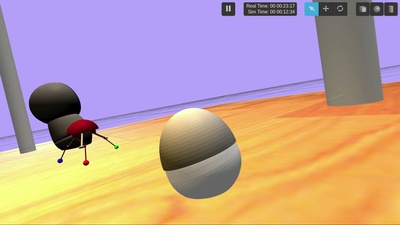mira_robot: (160, 108, 241, 199)
